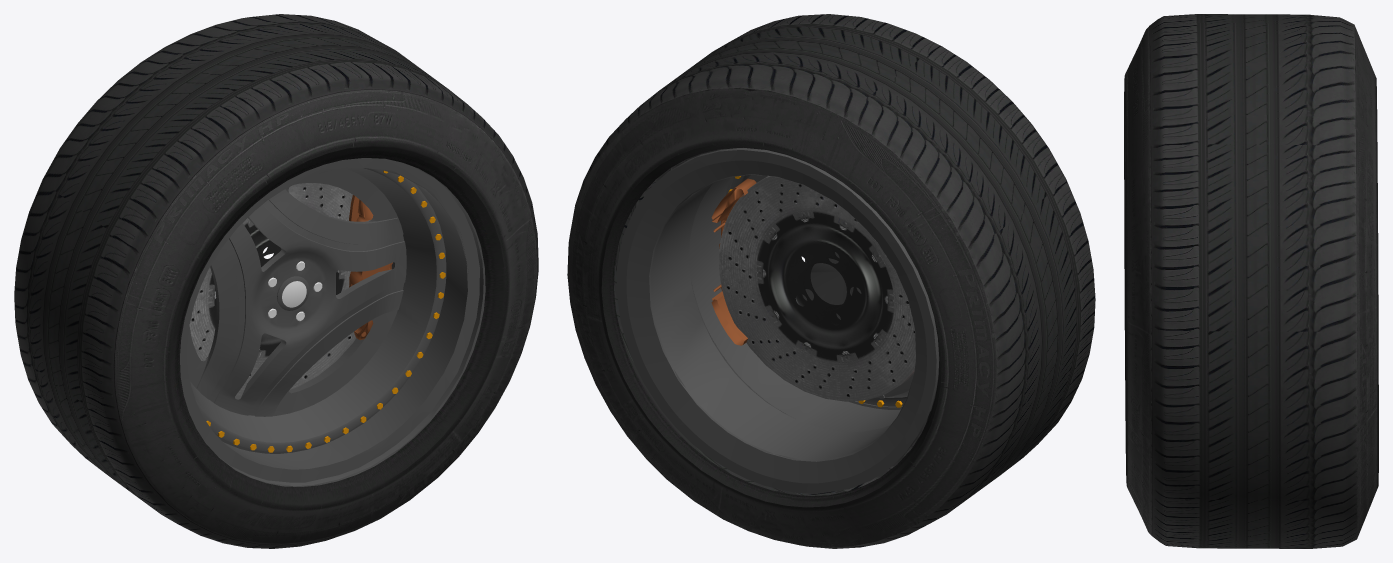
File: Tyre_Type_10.fbx
3 renders of one model, left to right at view 1: azimuth 30°, elevation 25°; view 2: azimuth 150°, elevation 25°; view 3: azimuth 270°, elevation 25°, orthographic. The views are drawn at different scales.
Parts seen in each view (by area): view 1: Rubber, Rim10, Rim, Disc, Caliper, Outer Screws; view 2: Rubber, Rim, Disc, Rim10, Caliper; view 3: Rubber.
Boxes of the visible parts, x1,y1,x2,y2 form: Rubber: (14, 14, 538, 548); Rim10: (187, 168, 446, 453); Rim: (180, 158, 485, 486); Disc: (189, 183, 355, 396); Caliper: (349, 195, 392, 339); Outer Screws: (206, 170, 445, 452); Rubber: (567, 14, 1095, 548); Rim: (617, 148, 939, 493); Disc: (719, 176, 915, 401); Rim10: (725, 175, 913, 409); Caliper: (711, 178, 756, 345); Rubber: (1124, 14, 1378, 548).
Size of the model in its own units: 55.47 by 55.36 by 26.42.
